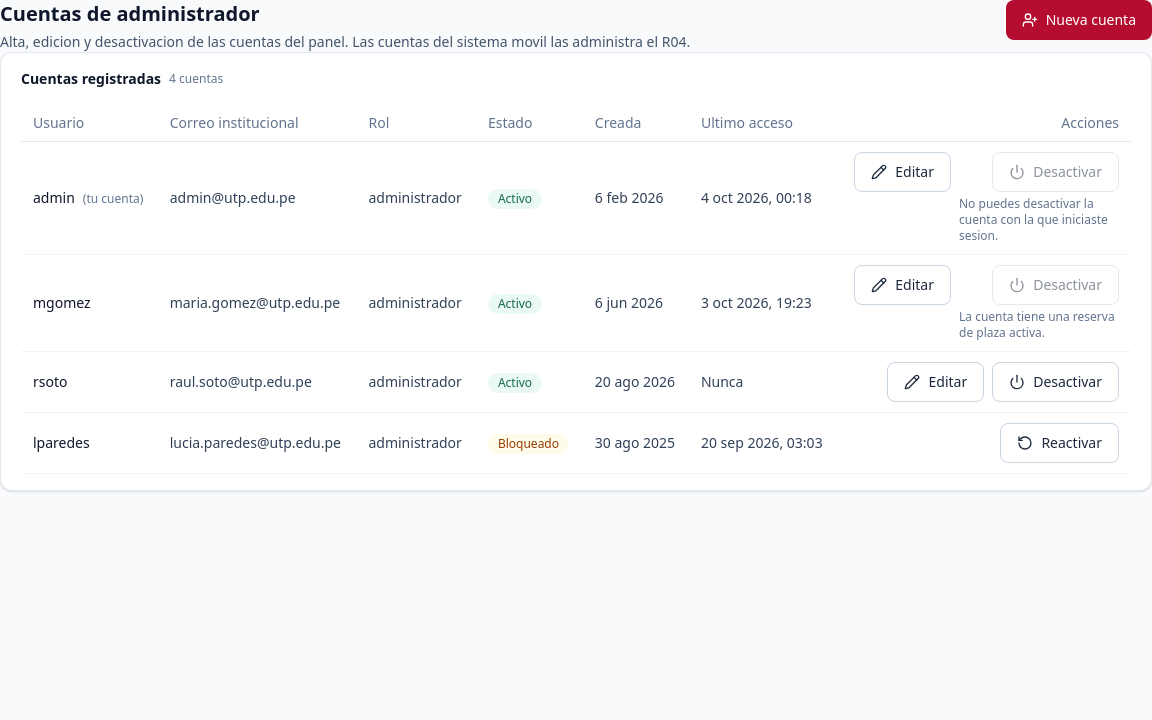
Test: CuentasAdminPage (RFA12) › E1: el servidor rechaza un usuario repetido y el modal lo muestra
The image size is (1152, 720).
Click the button "Nueva cuenta". click: (1079, 20)
box: x1=1006 y1=0 x2=1151 y2=40
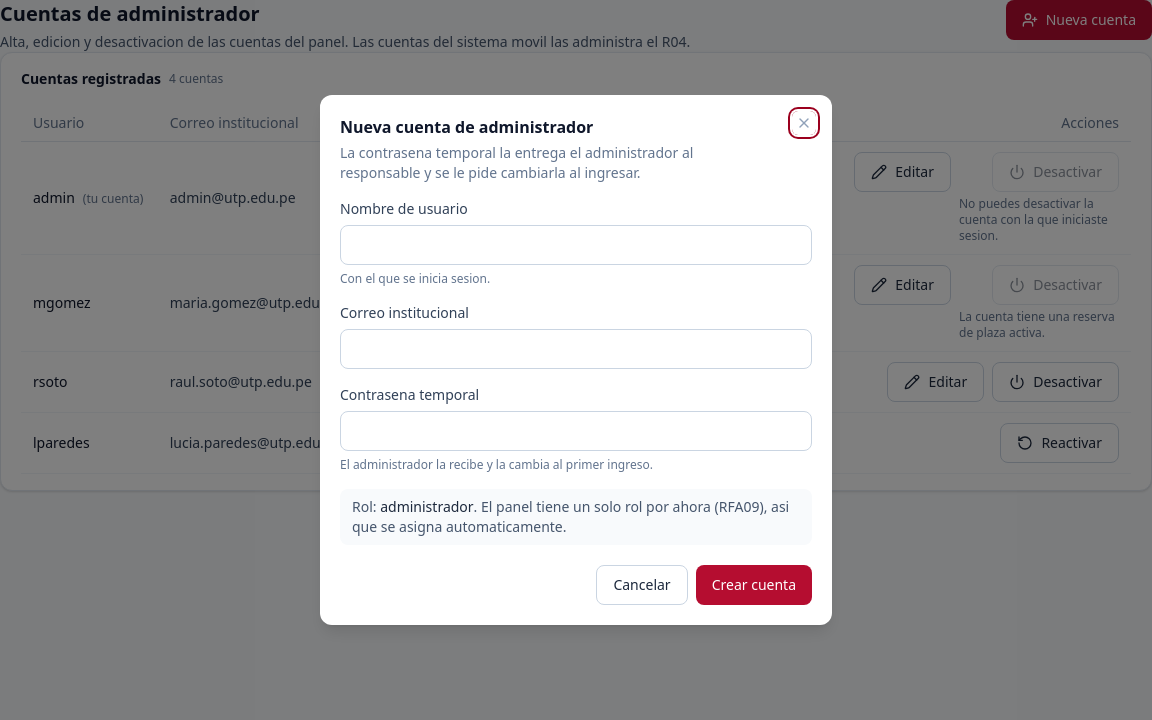
Type "RSOTO" into the field labelled "Nombre de usuario". click: (576, 245)
box: x1=340 y1=225 x2=812 y2=265
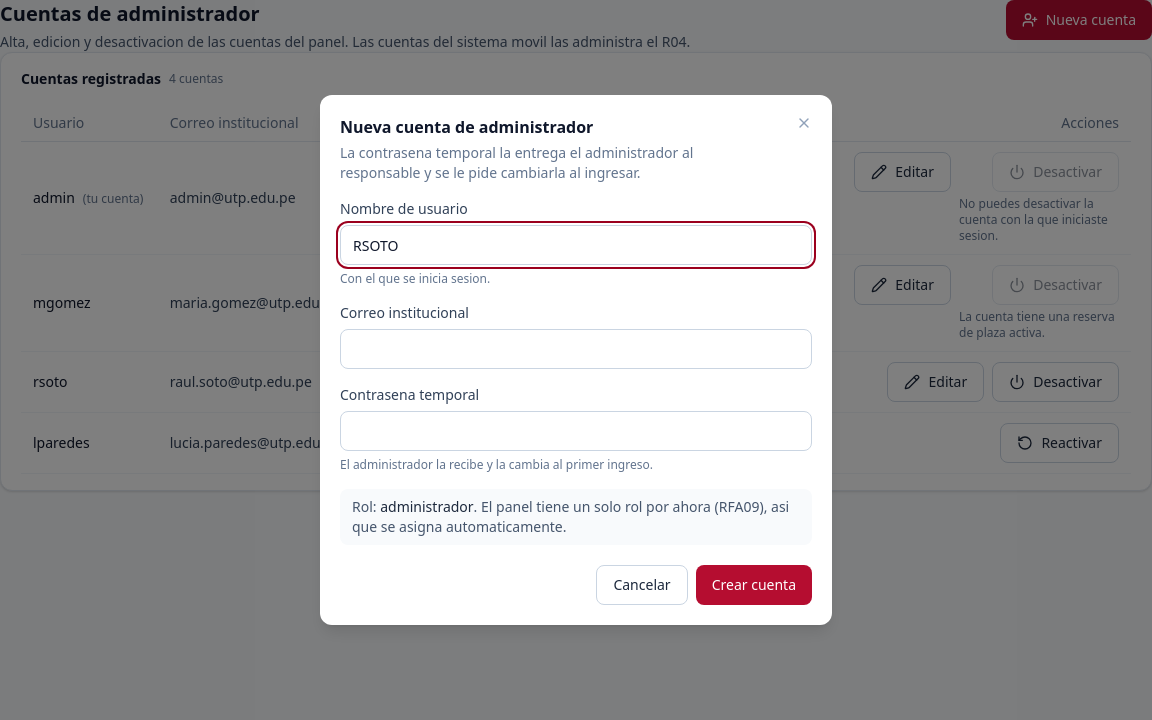
Type "otro@utp.edu.pe" into the field labelled "Correo institucional". click: (576, 349)
box: x1=340 y1=329 x2=812 y2=369
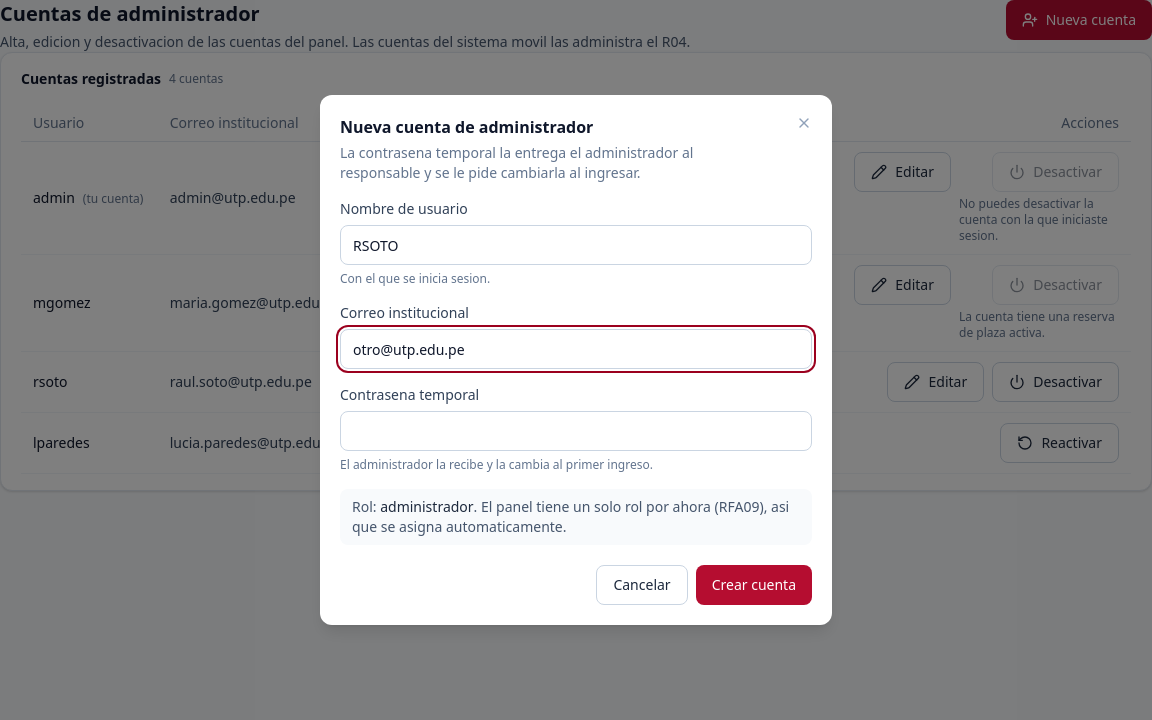
Type "utp2026" into the password field labelled "Contrasena temporal". click: (576, 431)
box: x1=340 y1=411 x2=812 y2=451
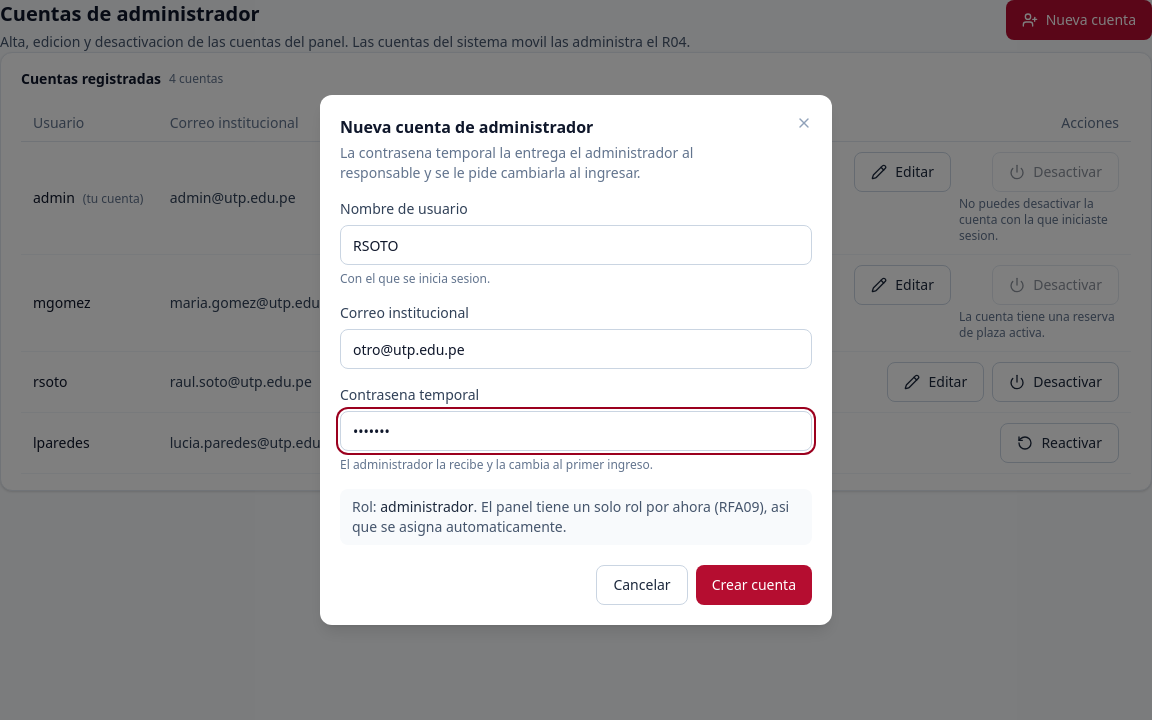
Click the button "Crear cuenta". click: (754, 585)
box: x1=696 y1=565 x2=812 y2=605
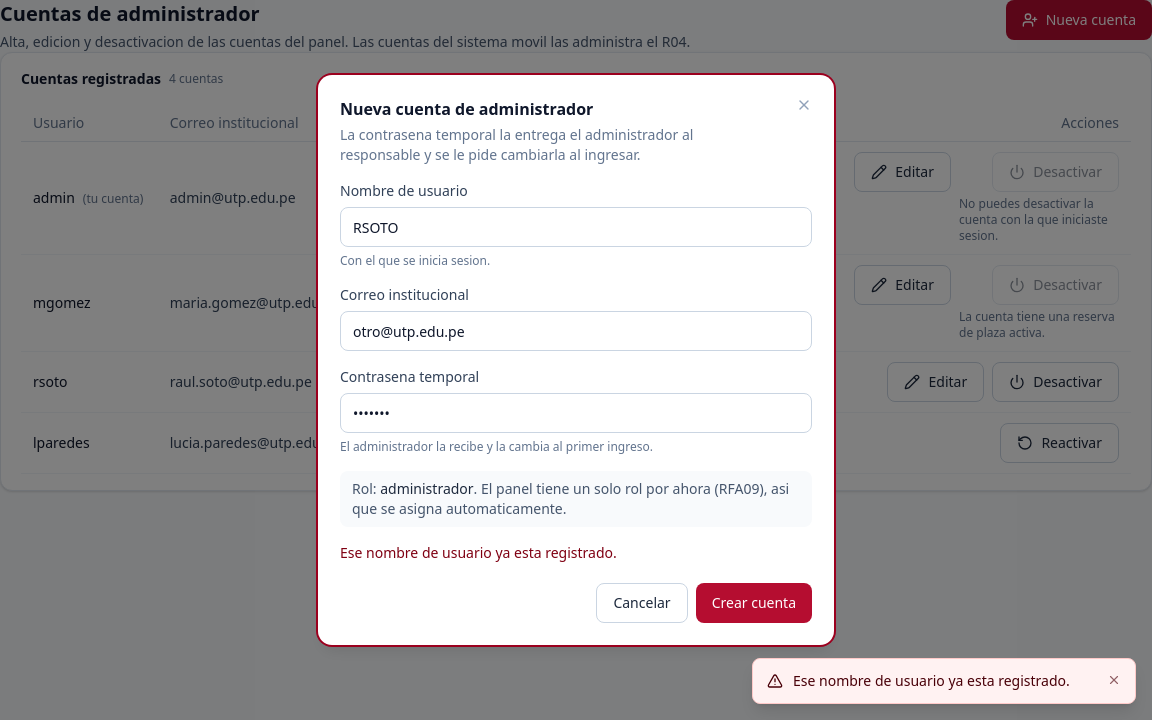
Expected: the message shows "ya esta registrado", x1=340 y1=543 x2=617 y2=562
